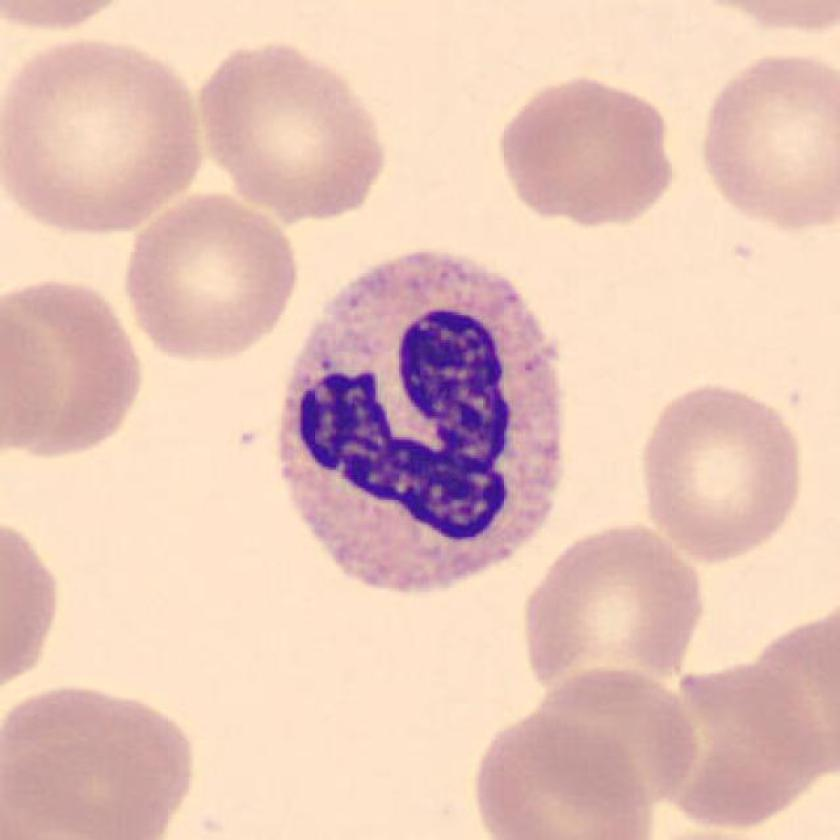neutrophil: (278, 254, 561, 593)
